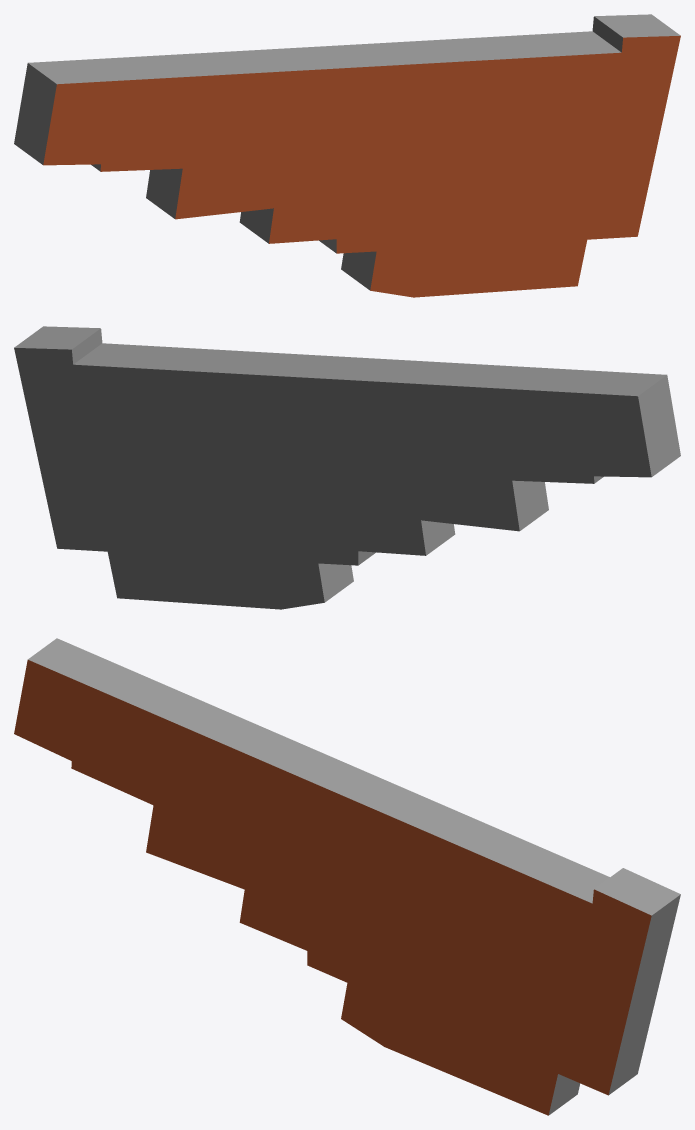
Rendered from construction_6617_assumed_A_Casa_h6m.obj.
3 renders of one model, top to bottom at view 1: azimuth 30°, elevation 25°; view 2: azimuth 150°, elevation 25°; view 3: azimuth 330°, elevation 25°, orthographic.
Visible parts, largest first — view 1: construction_6617_assumed_A_Casa; view 2: construction_6617_assumed_A_Casa; view 3: construction_6617_assumed_A_Casa.
Boxes of the visible parts, x1,y1,x2,y2 form: construction_6617_assumed_A_Casa: (14,14,680,297); construction_6617_assumed_A_Casa: (14,326,680,609); construction_6617_assumed_A_Casa: (14,638,680,1115).
Size of the model in its own units: 75.55 by 37.26 by 6.
